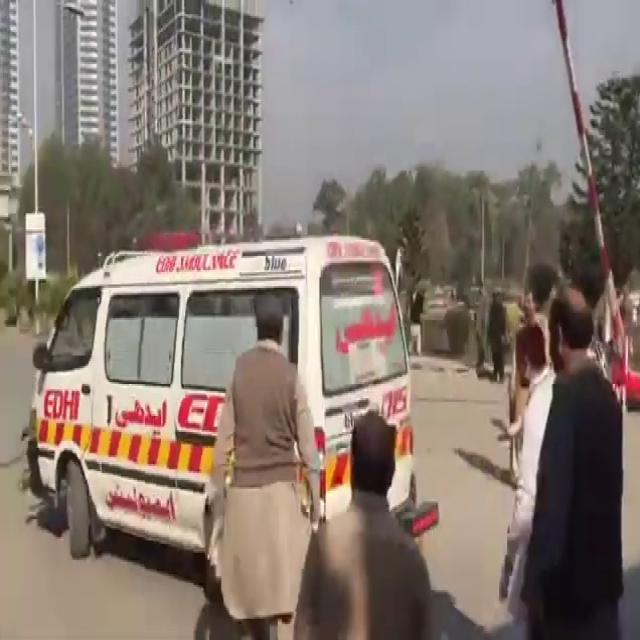ambulance: (52, 228, 440, 555)
